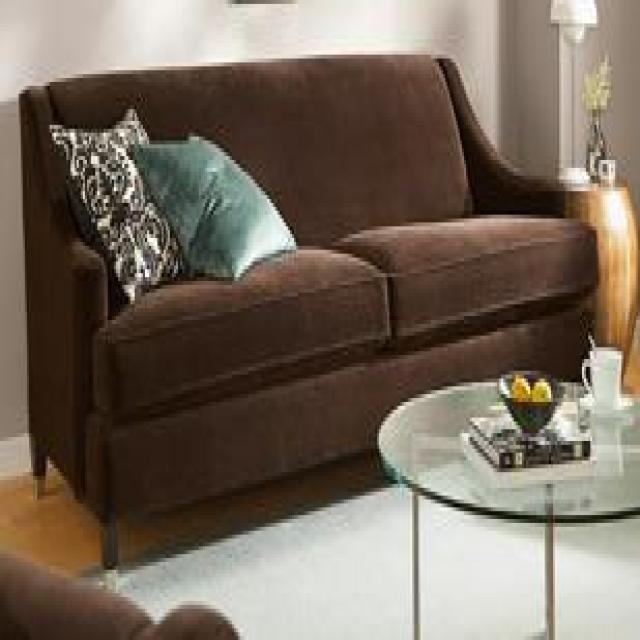sofa: (19, 54, 600, 578)
